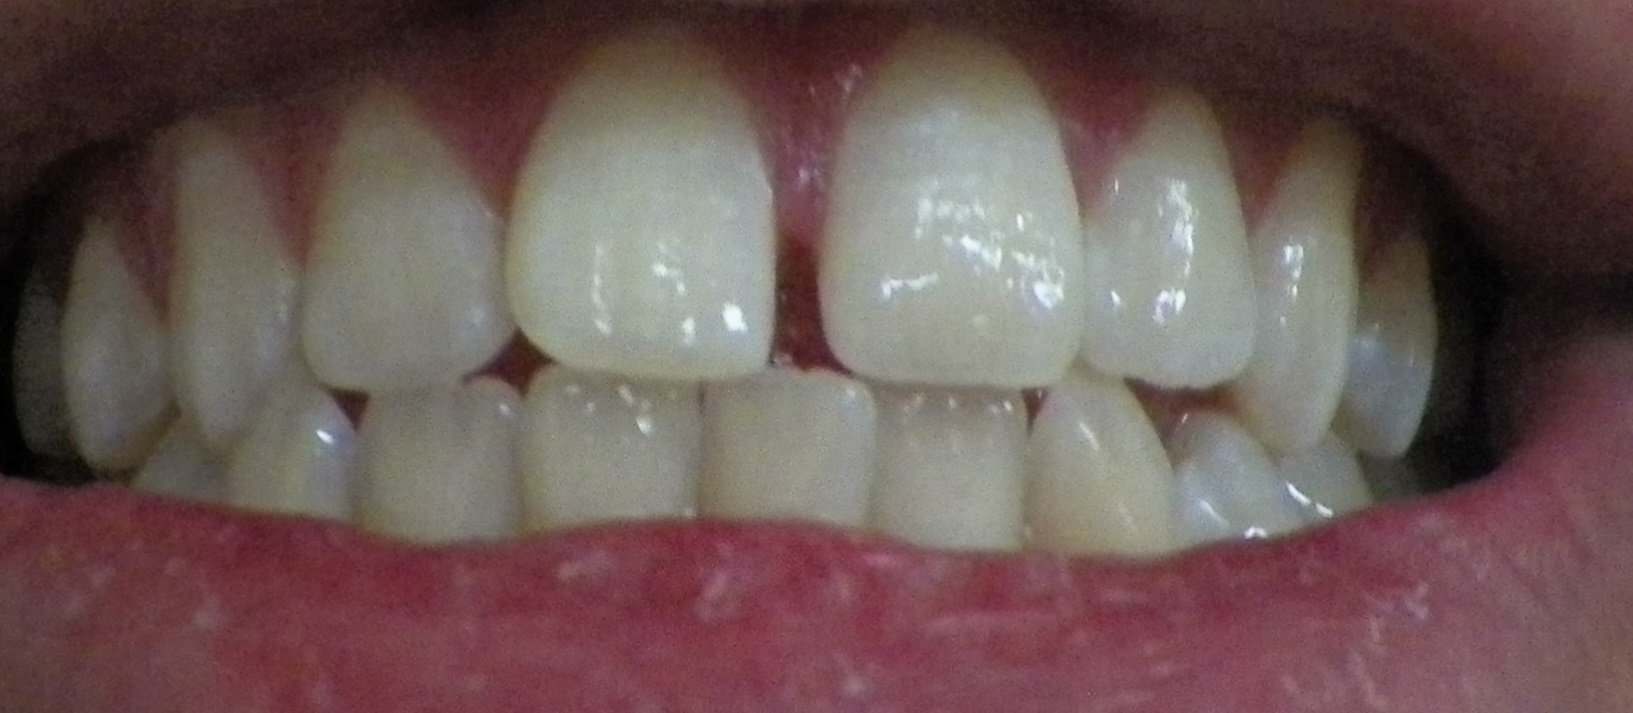boca: (5, 82, 1482, 533)
